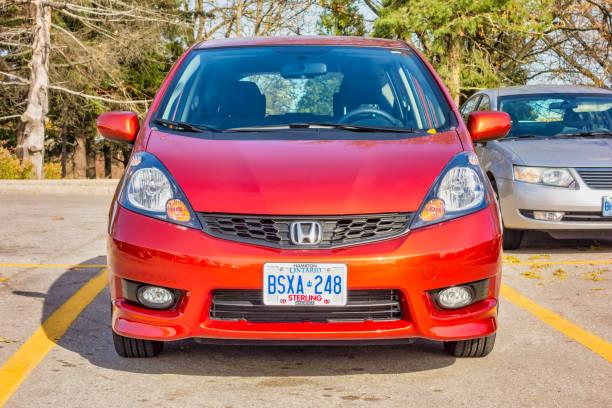licence: (261, 262, 347, 306)
